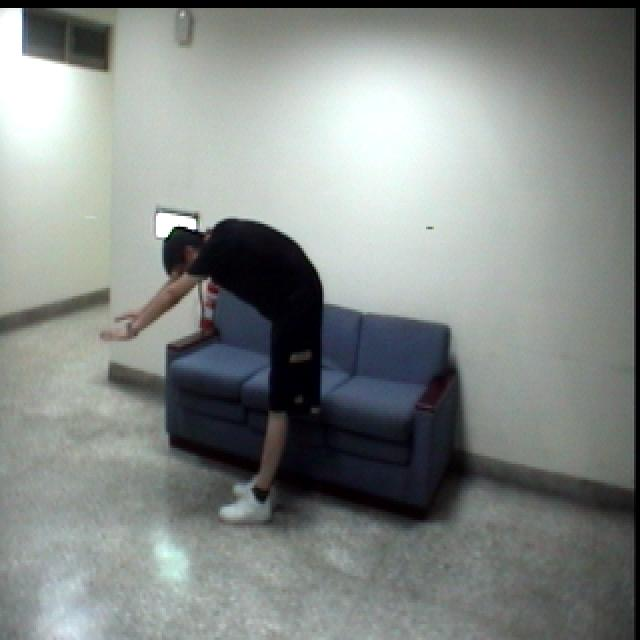bend: (87, 205, 333, 535)
